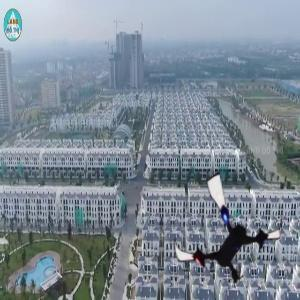drone: (168, 173, 287, 292)
